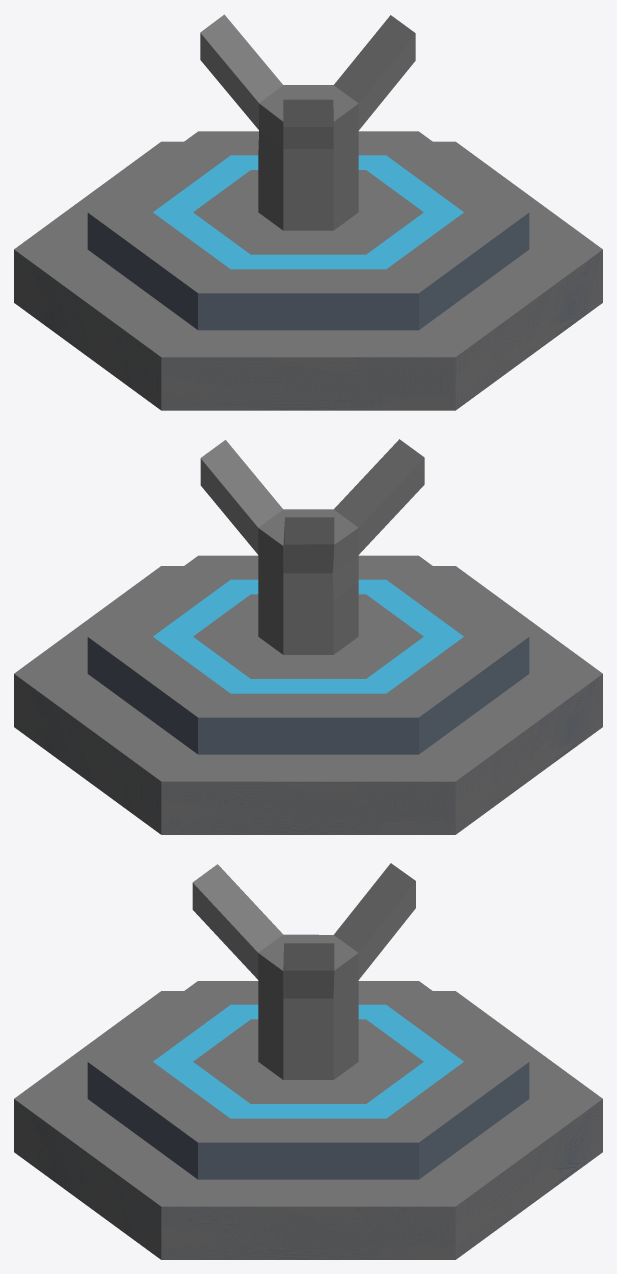
Rendered from LightSwitch.fbx.
3 views of the same model, one above another, from view 1: azimuth 30°, elevation 25°; view 2: azimuth 150°, elevation 25°; view 3: azimuth 270°, elevation 25° (orthographic).
Parts seen in each view (by area): view 1: 柱体; view 2: 柱体; view 3: 柱体.
Boxes of the visible parts, x1,y1,x2,y2 form: 柱体: [14, 14, 602, 410]; 柱体: [14, 439, 602, 834]; 柱体: [14, 863, 602, 1259].
Bounding box in the file's own units: 86.6 × 48.04 × 100.
